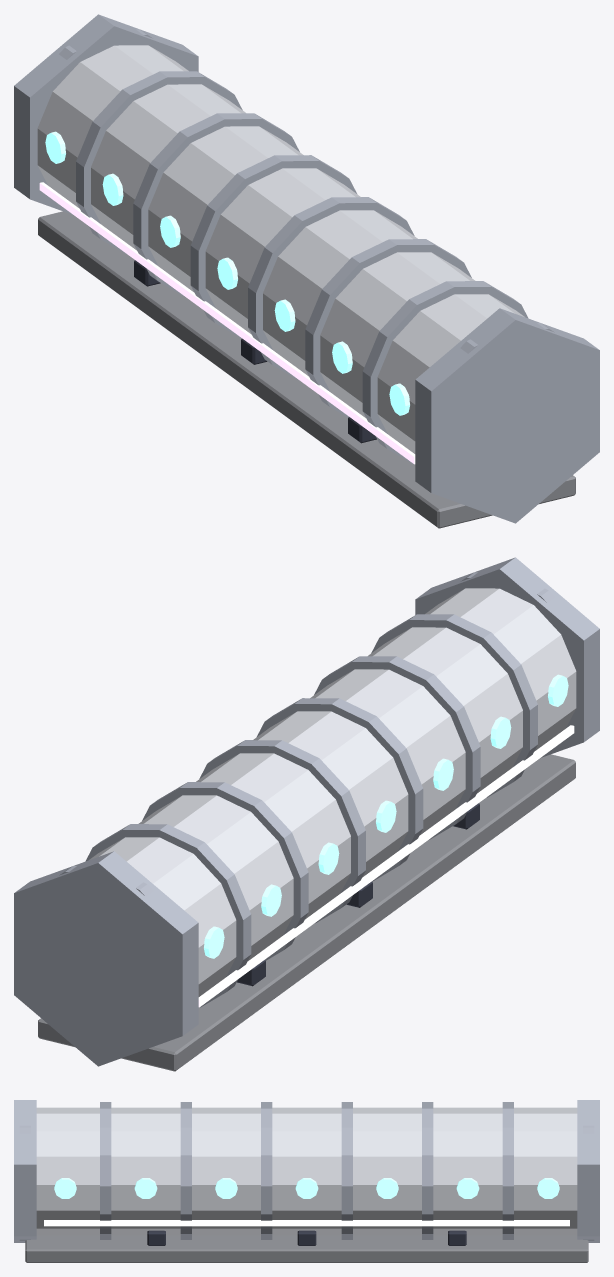
File: AirlockTunnel.fbx
3 renders of one model, top to bottom at view 1: azimuth 30°, elevation 25°; view 2: azimuth 150°, elevation 25°; view 3: azimuth 270°, elevation 25°, orthographic. The views are drawn at different scales.
Parts seen in each view (by area): view 1: AirlockTunnel_MoonPanel, AirlockTunnel_MoonWhite, AirlockTunnel_Grey, AirlockTunnel_NeonPurple, AirlockTunnel_NeonCyan, AirlockTunnel_MoonDark; view 2: AirlockTunnel_MoonPanel, AirlockTunnel_MoonWhite, AirlockTunnel_Grey, AirlockTunnel_NeonPurple, AirlockTunnel_NeonCyan, AirlockTunnel_MoonDark; view 3: AirlockTunnel_MoonWhite, AirlockTunnel_MoonPanel, AirlockTunnel_Grey, AirlockTunnel_NeonPurple, AirlockTunnel_NeonCyan, AirlockTunnel_MoonDark.
Part boxes in pixels (box(x1,y1,x2,y2)): AirlockTunnel_MoonPanel: box(14, 14, 599, 523); AirlockTunnel_MoonWhite: box(37, 45, 524, 453); AirlockTunnel_Grey: box(38, 211, 575, 528); AirlockTunnel_NeonPurple: box(39, 182, 415, 464); AirlockTunnel_NeonCyan: box(45, 131, 409, 415); AirlockTunnel_MoonDark: box(134, 260, 376, 443); AirlockTunnel_MoonPanel: box(14, 557, 599, 1066); AirlockTunnel_MoonWhite: box(89, 588, 576, 996); AirlockTunnel_Grey: box(38, 754, 575, 1071); AirlockTunnel_NeonPurple: box(198, 725, 574, 1007); AirlockTunnel_NeonCyan: box(204, 674, 568, 958); AirlockTunnel_MoonDark: box(237, 803, 479, 986); AirlockTunnel_MoonWhite: box(36, 1107, 577, 1235); AirlockTunnel_MoonPanel: box(14, 1100, 599, 1242); AirlockTunnel_Grey: box(25, 1235, 588, 1262); AirlockTunnel_NeonPurple: box(44, 1220, 569, 1226); AirlockTunnel_NeonCyan: box(54, 1178, 559, 1198); AirlockTunnel_MoonDark: box(147, 1230, 466, 1245).
Size of the model in its own units: 7.27 by 8.4 by 31.2.
